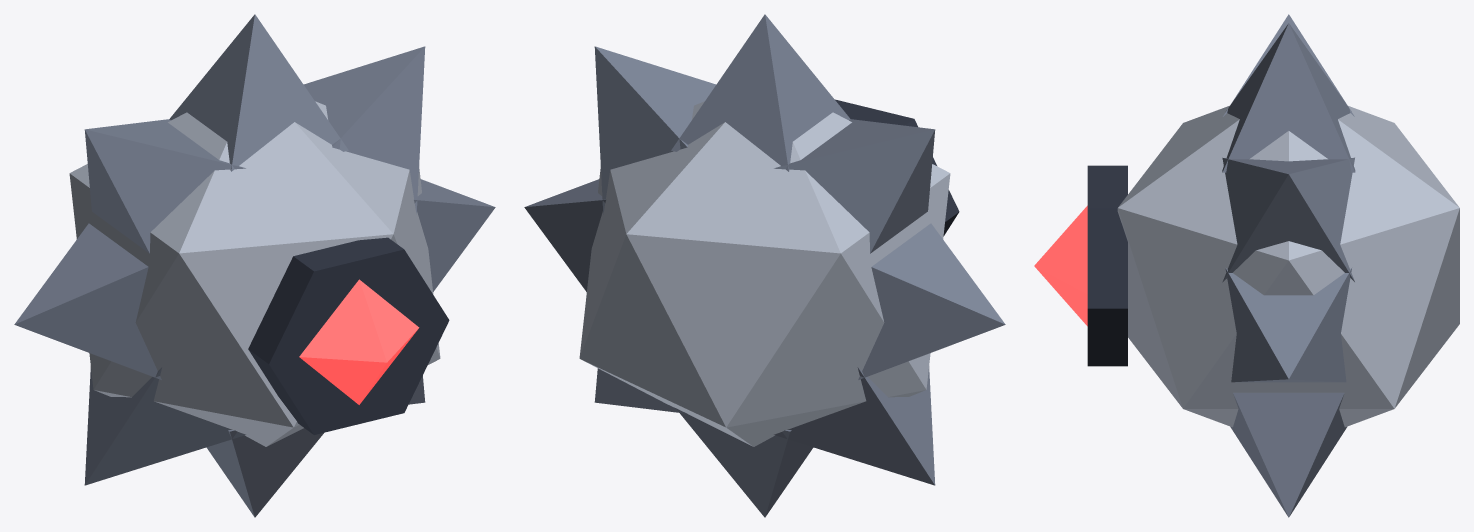
File: mine.glb
3 views of the same model, side by side, from view 1: azimuth 30°, elevation 25°; view 2: azimuth 150°, elevation 25°; view 3: azimuth 270°, elevation 25° (orthographic). The views are drawn at different scales.
Parts seen in each view (by area): view 1: body, collar, light; view 2: body, collar; view 3: body, collar, light.
Boxes of the visible parts, x1,y1,x2,y2 form: body: (14,14,495,517); collar: (248,237,449,434); light: (299,279,419,404); body: (524,14,1005,517); collar: (835,99,959,236); body: (1117,14,1459,517); collar: (1087,165,1127,366); light: (1034,205,1087,326).
Bounding box in the file's own units: 8 × 8 × 6.35.
